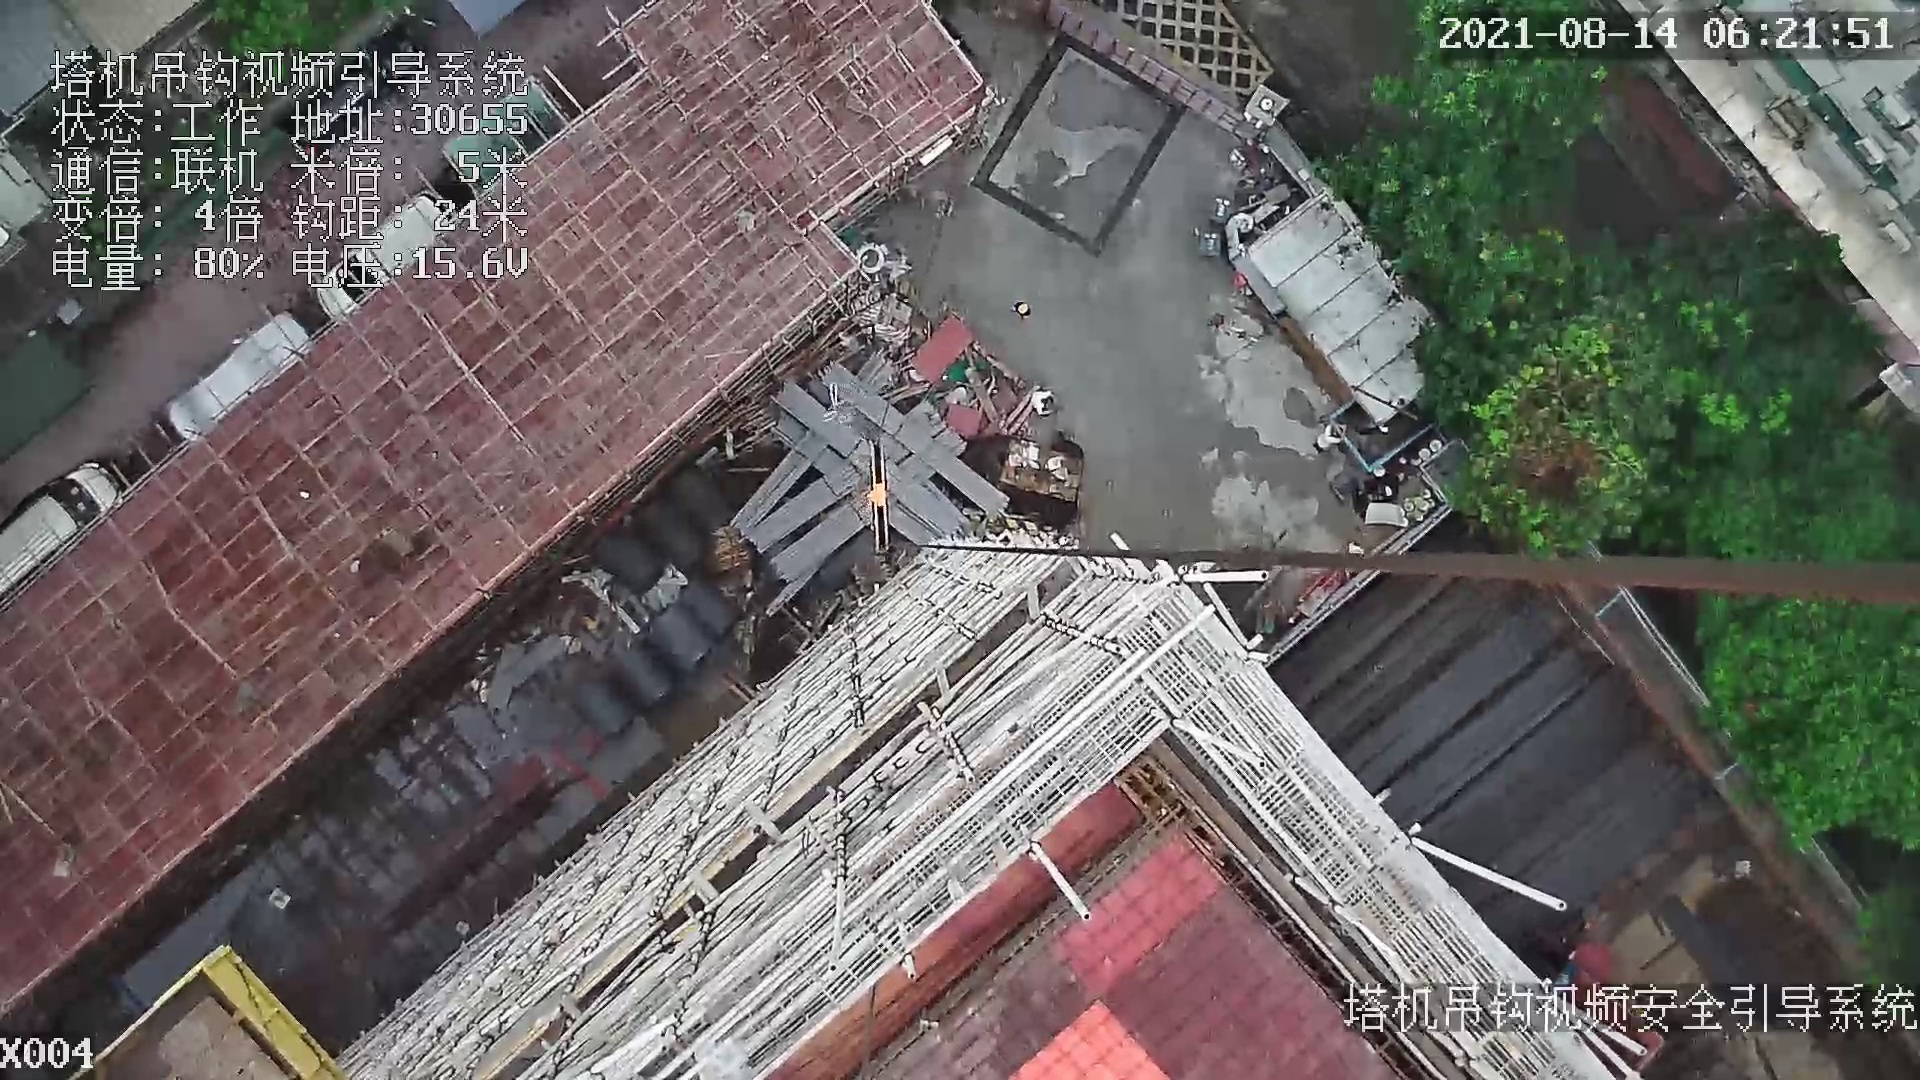hook: (860, 436, 891, 553)
